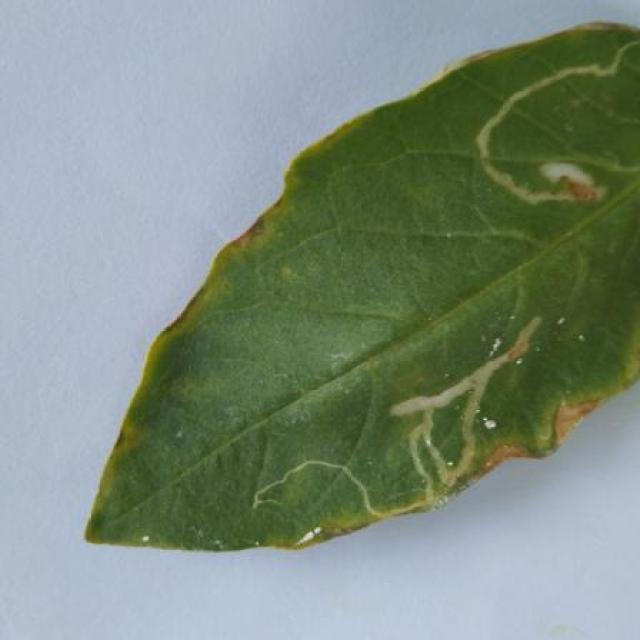Leaf Miner: (82, 19, 639, 550)
